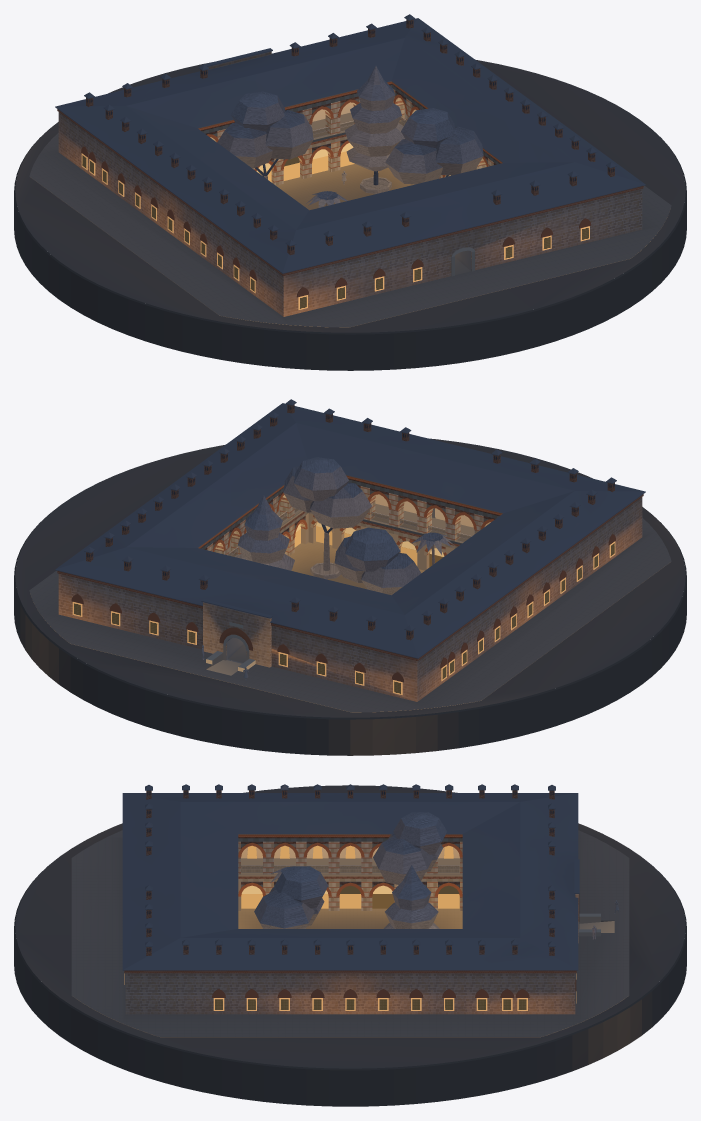
Rendered from emir-hani_v05_night_sunum.glb.
3 views of the same model, one above another, from view 1: azimuth 30°, elevation 25°; view 2: azimuth 150°, elevation 25°; view 3: azimuth 270°, elevation 25° (orthographic).
Parts seen in each view (by area): view 1: Emir_Hani, Zemin_Kaide, Zemin_Sokak, Avlu_Revaklari, Cevre_Agac_02, Dis_Cephe, Cevre_Agac_01, Cevre_Agac_03, Bacalar, Han_Avlu, Girisler; view 2: Emir_Hani, Zemin_Kaide, Zemin_Sokak, Avlu_Revaklari, Dis_Cephe, Cevre_Agac_02, Bacalar, Girisler, Cevre_Agac_01, Cevre_Agac_03, Han_Avlu; view 3: Emir_Hani, Zemin_Kaide, Zemin_Sokak, Avlu_Revaklari, Dis_Cephe, Bacalar, Cevre_Agac_01, Cevre_Agac_02, Han_Avlu, Cevre_Agac_03, Girisler.
Boxes of the visible parts, box(x1,y1,x2,y2) form: Emir_Hani: box(55, 18, 645, 316); Zemin_Kaide: box(14, 59, 686, 370); Zemin_Sokak: box(29, 133, 671, 327); Avlu_Revaklari: box(198, 81, 502, 185); Cevre_Agac_02: box(385, 108, 483, 184); Dis_Cephe: box(57, 109, 643, 309); Cevre_Agac_01: box(217, 91, 313, 179); Cevre_Agac_03: box(344, 66, 404, 193); Bacalar: box(84, 14, 616, 255); Han_Avlu: box(276, 164, 414, 210); Girisler: box(201, 48, 474, 276); Emir_Hani: box(55, 403, 645, 701); Zemin_Kaide: box(14, 438, 686, 755); Zemin_Sokak: box(29, 518, 671, 712); Avlu_Revaklari: box(198, 475, 502, 570); Dis_Cephe: box(57, 494, 643, 694); Cevre_Agac_02: box(283, 457, 371, 579); Bacalar: box(84, 399, 616, 640); Girisler: box(201, 599, 272, 675); Cevre_Agac_01: box(334, 527, 421, 595); Cevre_Agac_03: box(236, 495, 294, 570); Han_Avlu: box(289, 541, 424, 589); Emir_Hani: box(122, 793, 578, 1014); Zemin_Kaide: box(14, 785, 686, 1106); Zemin_Sokak: box(71, 830, 629, 1037); Avlu_Revaklari: box(238, 834, 462, 910); Dis_Cephe: box(124, 970, 576, 1010); Bacalar: box(145, 784, 555, 955); Cevre_Agac_01: box(373, 812, 446, 884); Cevre_Agac_02: box(254, 866, 328, 928); Han_Avlu: box(238, 896, 462, 928); Cevre_Agac_03: box(383, 865, 439, 928); Girisler: box(574, 859, 614, 942).
Size of the model in its own units: 74.78 by 15.61 by 74.78.
25 materials, 10 textured.
